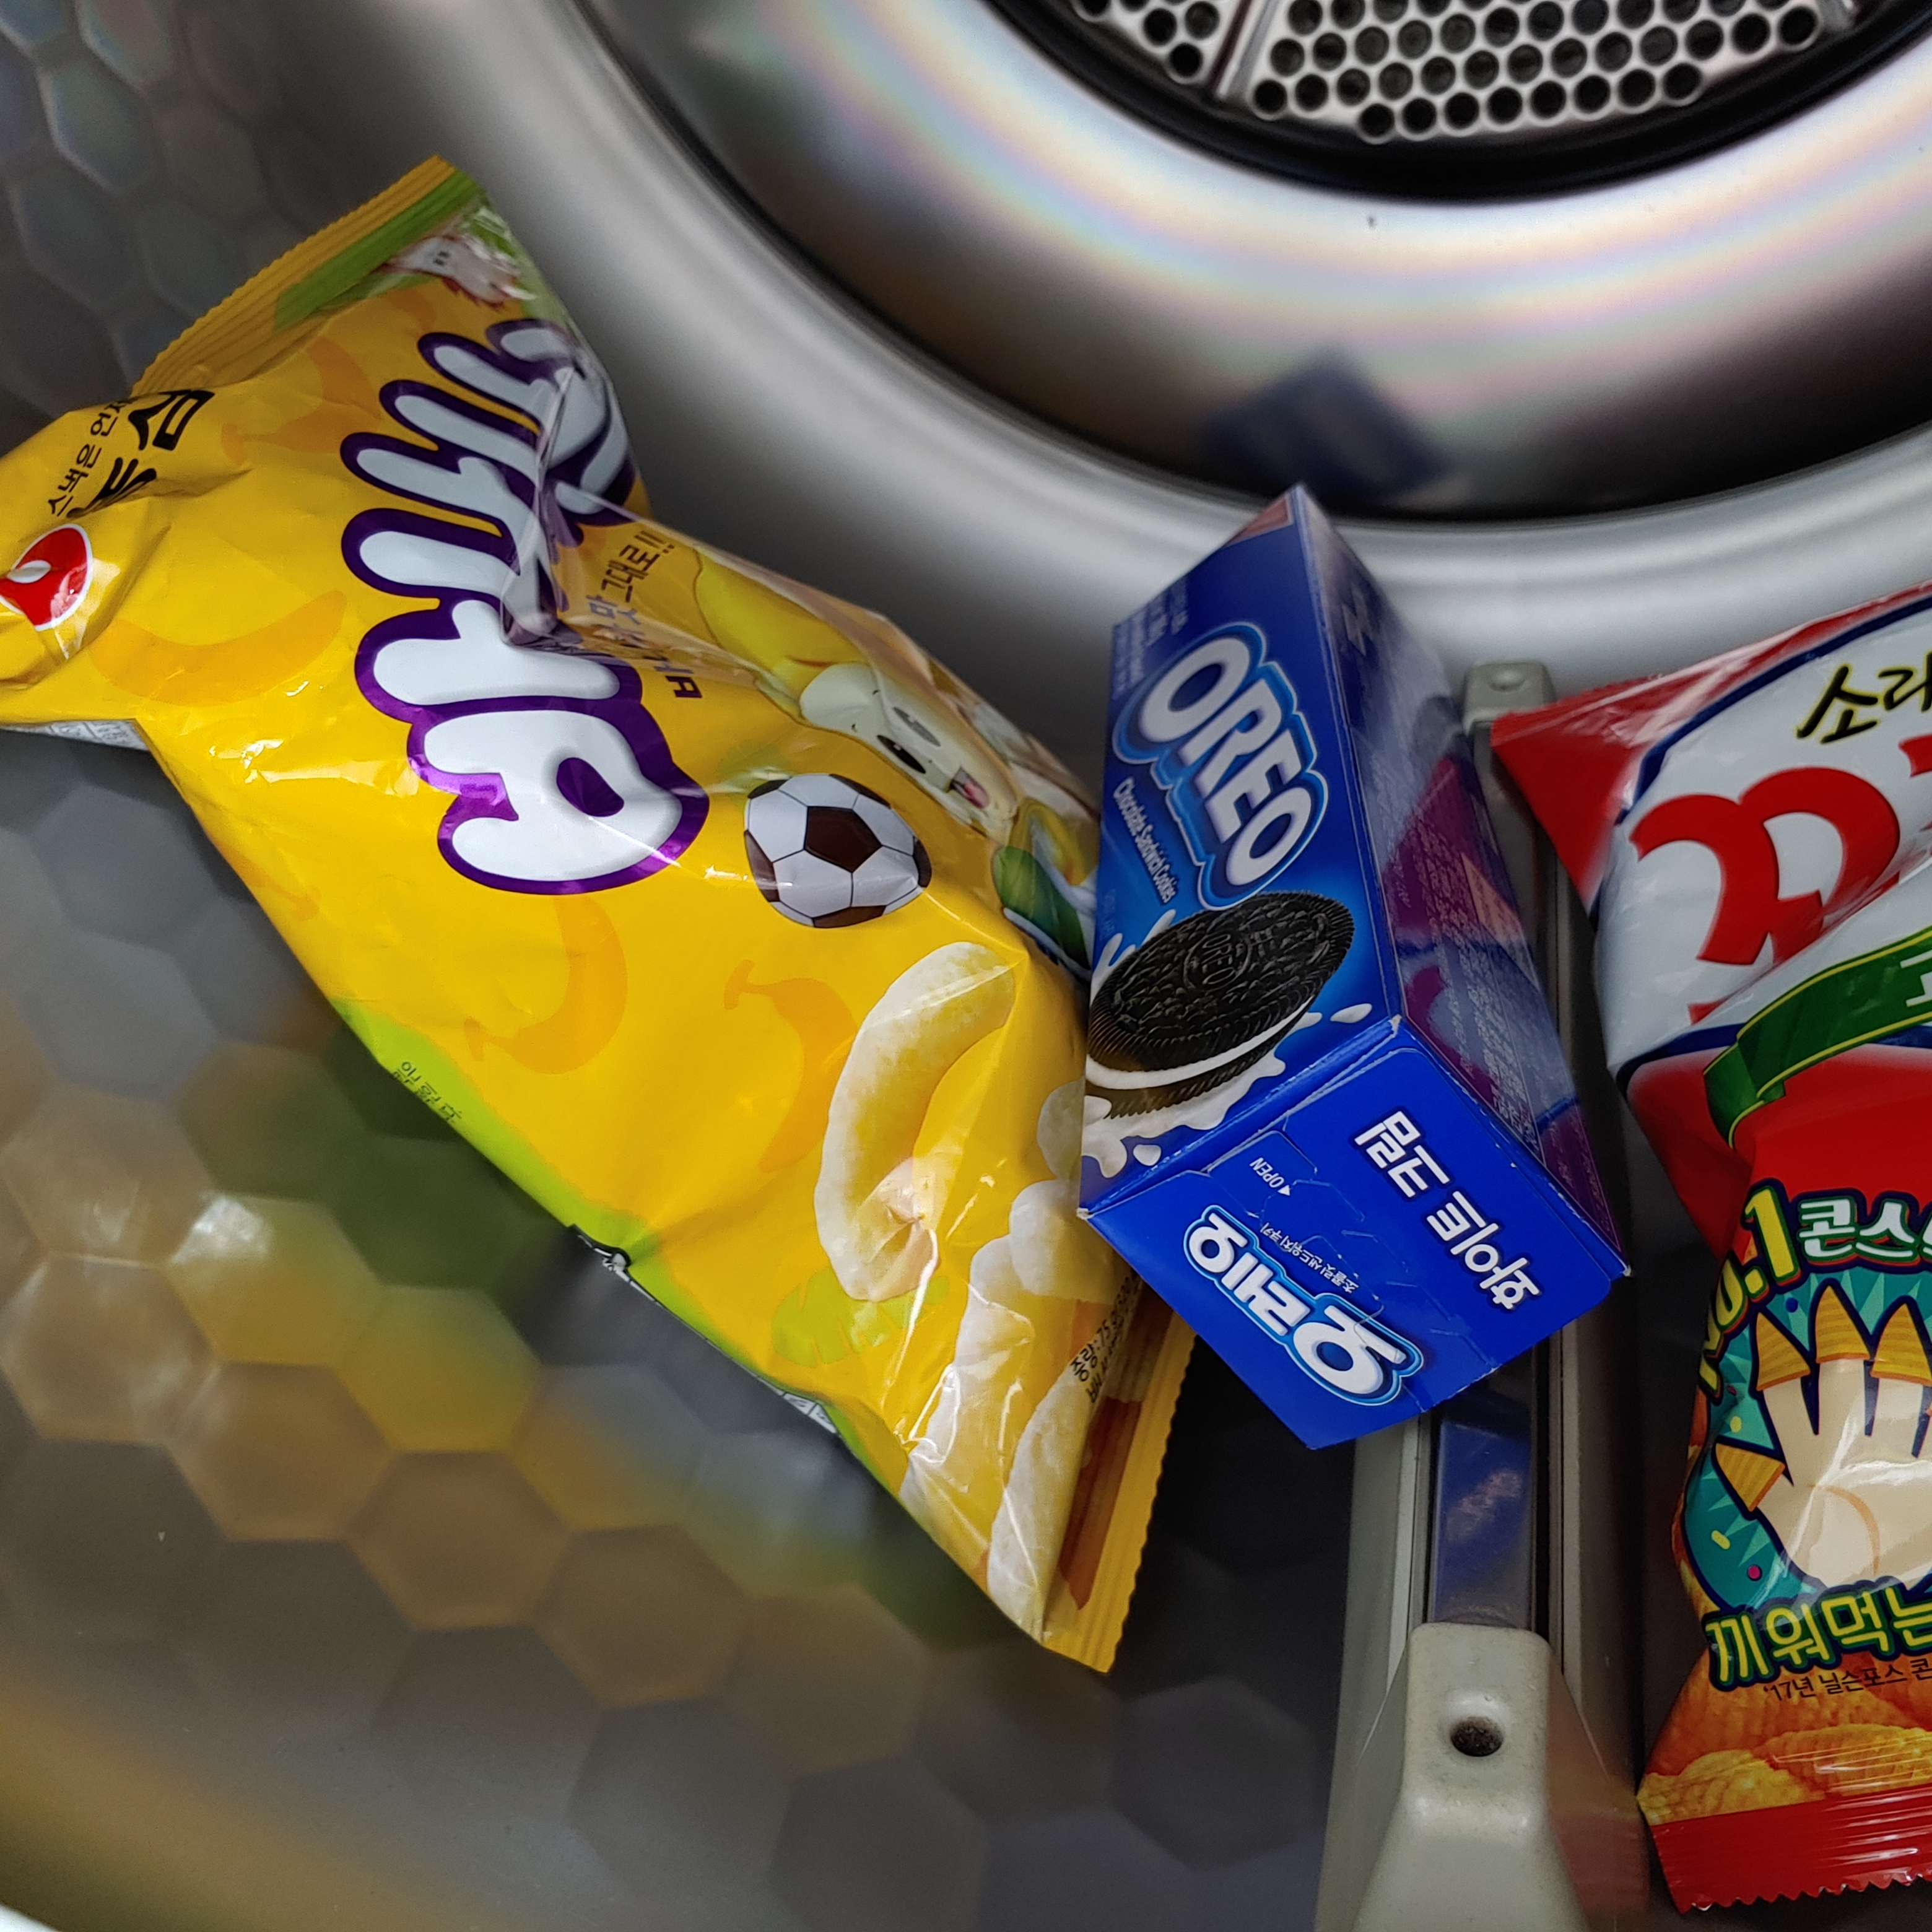banana: (7, 78, 1228, 1783)
ggoggalcon: (1407, 529, 1932, 1904)
oreo: (1030, 349, 1711, 1513)
